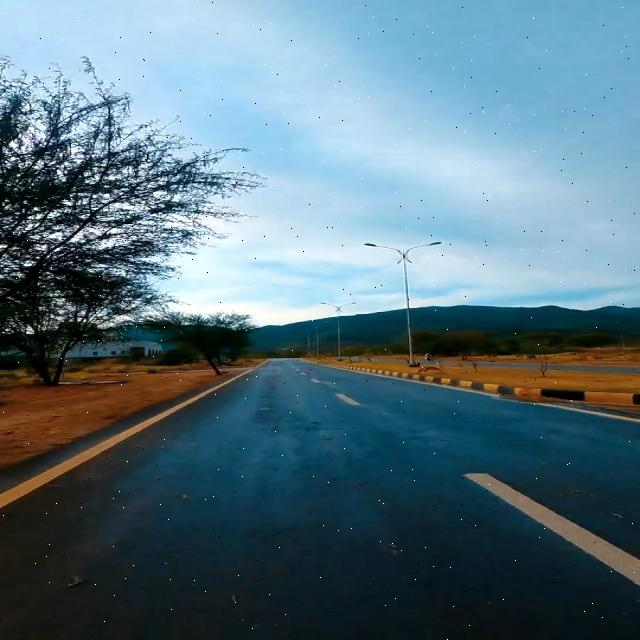lane: (0, 361, 268, 507), (465, 473, 639, 584)
road: (2, 359, 638, 639), (0, 361, 268, 507)
